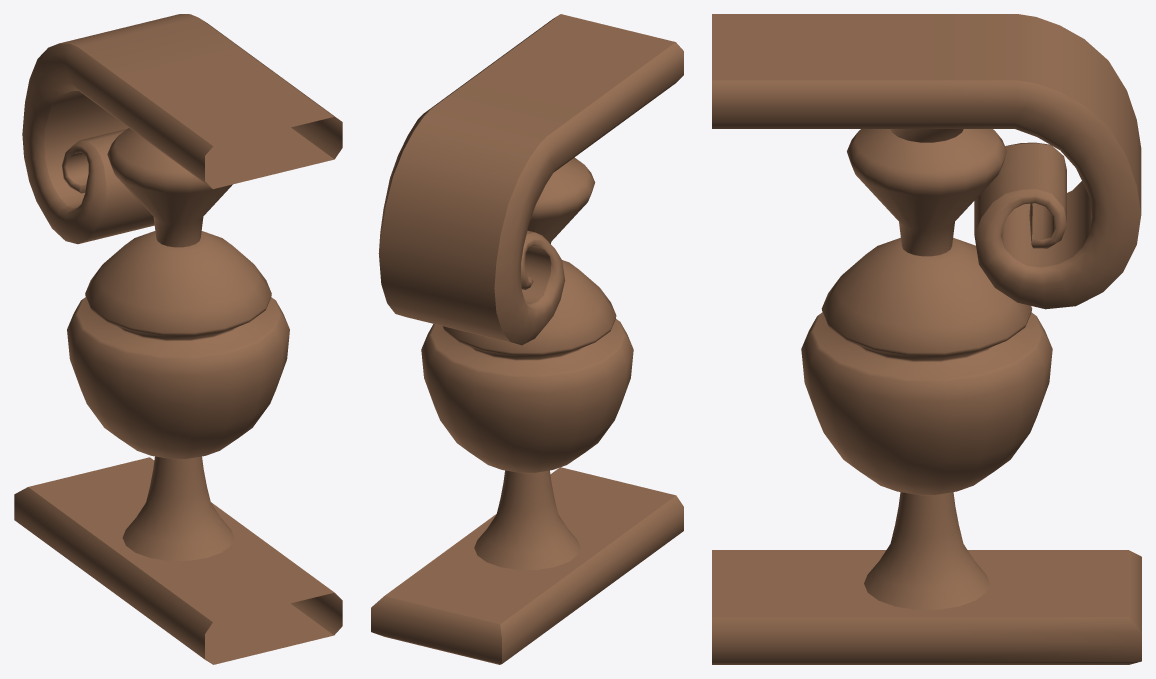
Rendered from OT_123_124_125_126_fancy_railings_end.glb.
3 views of the same model, side by side, from view 1: azimuth 30°, elevation 25°; view 2: azimuth 150°, elevation 25°; view 3: azimuth 270°, elevation 25° (orthographic). The views are drawn at different scales.
Parts seen in each view (by area): view 1: decoration, railings_top, railings_bottom; view 2: railings_top, decoration, railings_bottom; view 3: decoration, railings_top, railings_bottom.
Boxes of the visible parts, x1,y1,x2,y2 form: decoration: (67,128,289,560); railings_top: (22,14,342,244); railings_bottom: (14,457,342,664); railings_top: (378,14,683,345); decoration: (421,157,633,569); railings_bottom: (371,467,683,664); decoration: (801,129,1052,609); railings_top: (712,14,1141,309); railings_bottom: (712,550,1141,664).
Bounding box in the file's own units: 0.4319 × 1.12 × 0.75.
